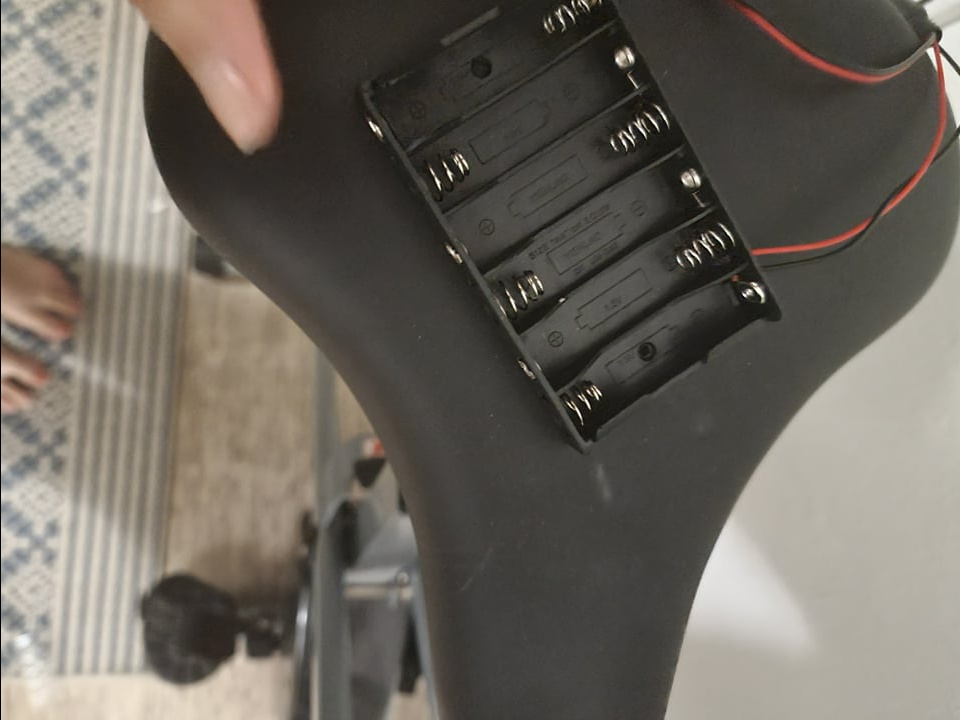BATTERY BOX: (332, 1, 788, 449)
